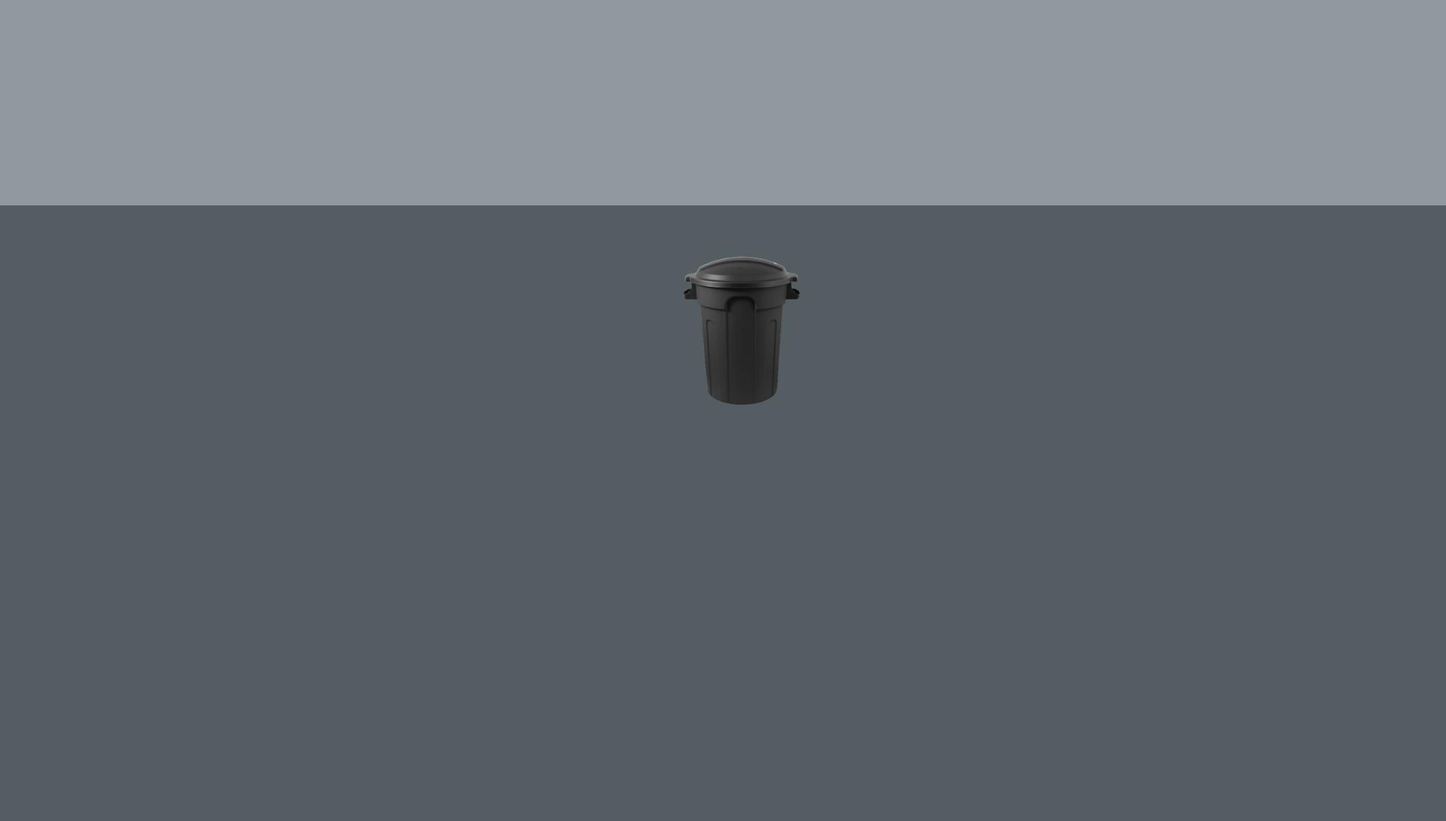garbage container: (681, 255, 802, 407)
